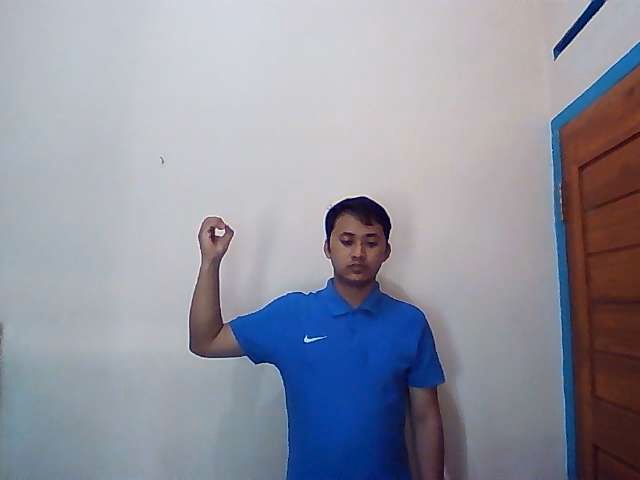O: (195, 214, 235, 263)
